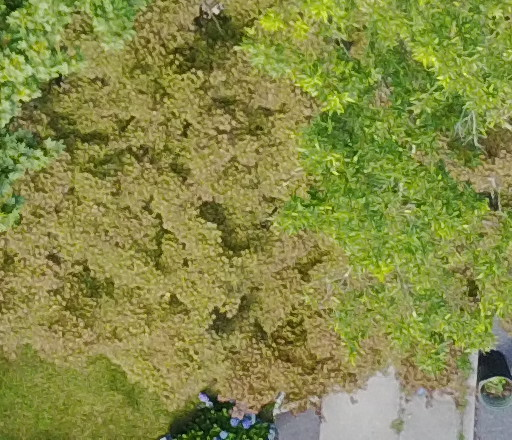container: (474, 370, 512, 417)
